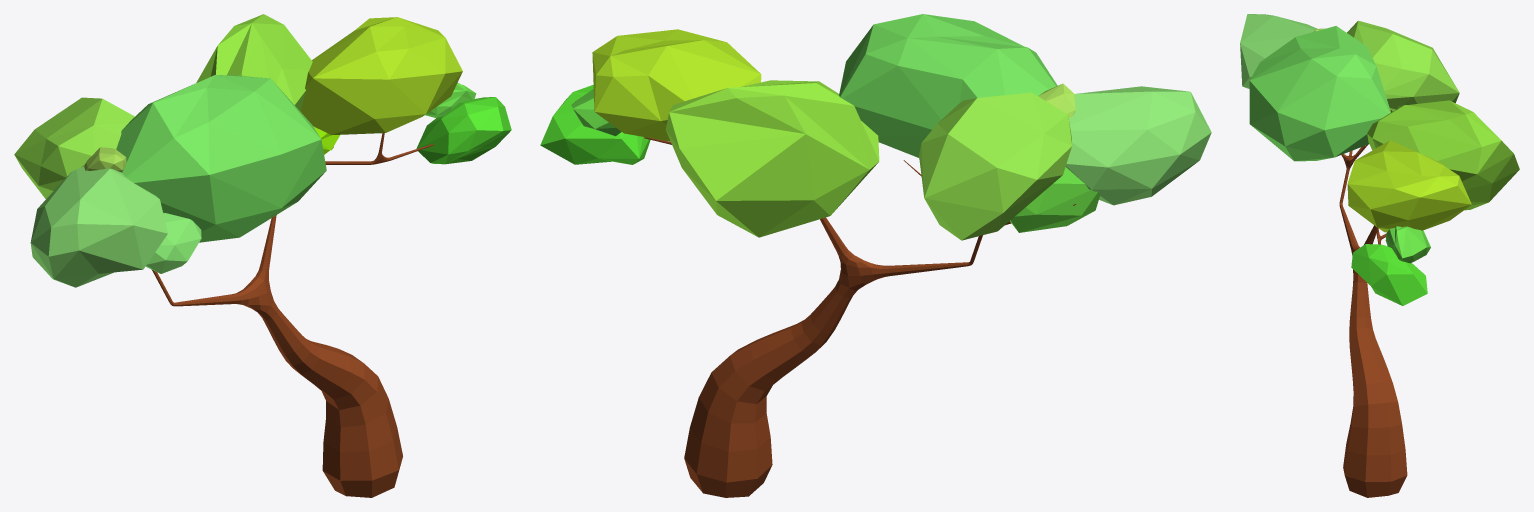
The model's file is tree.fbx.
The picture shows the model from 3 angles, left to right: view 1: azimuth 30°, elevation 25°; view 2: azimuth 150°, elevation 25°; view 3: azimuth 270°, elevation 25°; orthographic projection. The views are drawn at different scales.
Parts seen in each view (by area): view 1: Icosphere.003, Tree1, Icosphere.006, Icosphere, Icosphere.002, Icosphere.008, Icosphere.007, Icosphere.004, Icosphere.005, Icosphere.010; view 2: Icosphere.008, Icosphere.003, Tree1, Icosphere.002, Icosphere, Icosphere.006, Icosphere.007, Icosphere.001, Icosphere.010; view 3: Icosphere.003, Tree1, Icosphere.008, Icosphere.006, Icosphere.002, Icosphere.007, Icosphere, Icosphere.010.
Boxes of the visible parts, x1=… form: Icosphere.003: x1=116, y1=75, x2=326, y2=242; Tree1: x1=151, y1=133, x2=433, y2=497; Icosphere.006: x1=300, y1=17, x2=462, y2=134; Icosphere: x1=30, y1=166, x2=167, y2=287; Icosphere.002: x1=14, y1=97, x2=134, y2=198; Icosphere.008: x1=196, y1=14, x2=312, y2=111; Icosphere.007: x1=416, y1=97, x2=511, y2=164; Icosphere.004: x1=145, y1=212, x2=201, y2=273; Icosphere.005: x1=84, y1=147, x2=126, y2=172; Icosphere.010: x1=425, y1=83, x2=476, y2=117; Icosphere.008: x1=665, y1=80, x2=879, y2=237; Icosphere.003: x1=839, y1=14, x2=1057, y2=157; Tree1: x1=644, y1=137, x2=1076, y2=497; Icosphere.002: x1=919, y1=92, x2=1071, y2=240; Icosphere: x1=1065, y1=86, x2=1211, y2=205; Icosphere.006: x1=592, y1=29, x2=761, y2=141; Icosphere.007: x1=540, y1=84, x2=650, y2=164; Icosphere.001: x1=1010, y1=167, x2=1100, y2=232; Icosphere.010: x1=571, y1=89, x2=621, y2=136; Icosphere.003: x1=1249, y1=26, x2=1390, y2=161; Tree1: x1=1339, y1=110, x2=1407, y2=497; Icosphere.008: x1=1367, y1=100, x2=1519, y2=210; Icosphere.006: x1=1347, y1=140, x2=1471, y2=232; Icosphere.002: x1=1347, y1=20, x2=1459, y2=111; Icosphere.007: x1=1351, y1=244, x2=1427, y2=305; Icosphere: x1=1240, y1=14, x2=1317, y2=88; Icosphere.010: x1=1385, y1=226, x2=1430, y2=263.
Bounding box in the file's own units: 914 × 748 × 502.
